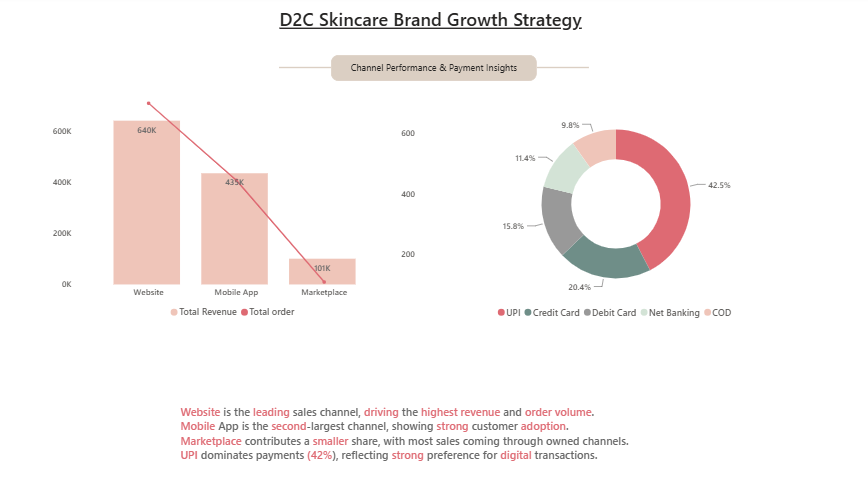

The page's visual inventory and layout, read from the dashboard file:
{"tool":"powerbi","page":{"name":"sales and payment ","canvas":[1280,720],"ordinal":3},"visuals":[{"type":"textbox","box":[408,10.2,463.9,51.2],"z":0},{"type":"textbox","box":[488.8,86.3,301.5,38],"z":1000},{"type":"shape","box":[412.7,52.7,76.1,103.9],"z":2000},{"type":"shape","box":[790.2,52.7,76.1,103.9],"z":3000},{"type":"textbox","box":[267.8,686.3,616.1,13.2],"z":4000},{"type":"textbox","box":[76.1,526.8,541.5,142],"z":5000},{"type":"lineClusteredColumnComboChart","fields":{"Category":["3  Orders.sales_channel"],"Y":["1  Customers.Total Revenue"],"Y2":["1  Customers.Total order"]},"box":[76.1,140.5,541.5,341],"z":6000},{"type":"donutChart","fields":{"Category":["3  Orders.payment_method"],"Y":["1  Customers.Total Revenue"]},"box":[643.9,156.6,523.9,324.9],"z":7000},{"type":"textbox","box":[263.4,592.7,706.8,127.3],"z":8000}]}

Visuals, with their boxes in screenshot pixels (x1, y1, x2, y2), scaled from the page's 1280x720 canvas onto the 868x485 screenshot:
textbox: rect(277, 7, 591, 41)
textbox: rect(331, 58, 536, 84)
shape: rect(280, 35, 331, 105)
shape: rect(536, 35, 587, 105)
textbox: rect(182, 462, 599, 471)
textbox: rect(52, 355, 419, 451)
lineClusteredColumnComboChart - 3  Orders.sales_channel x 1  Customers.Total Revenue: rect(52, 95, 419, 324)
donutChart - 3  Orders.payment_method x 1  Customers.Total Revenue: rect(437, 105, 792, 324)
textbox: rect(179, 399, 658, 484)
